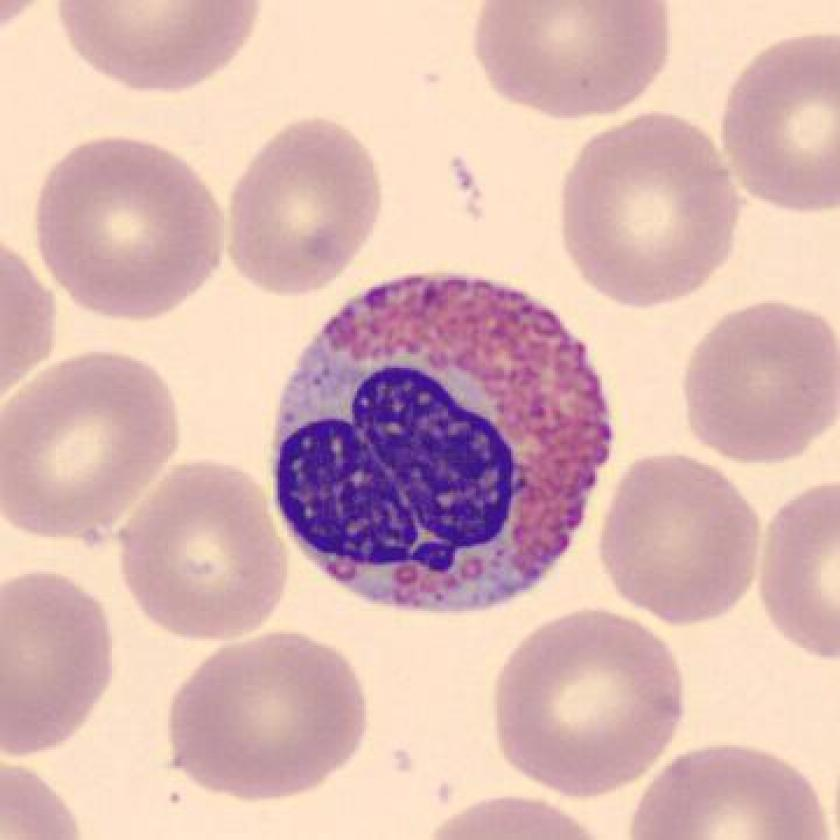eosinophil: (258, 265, 626, 626)
